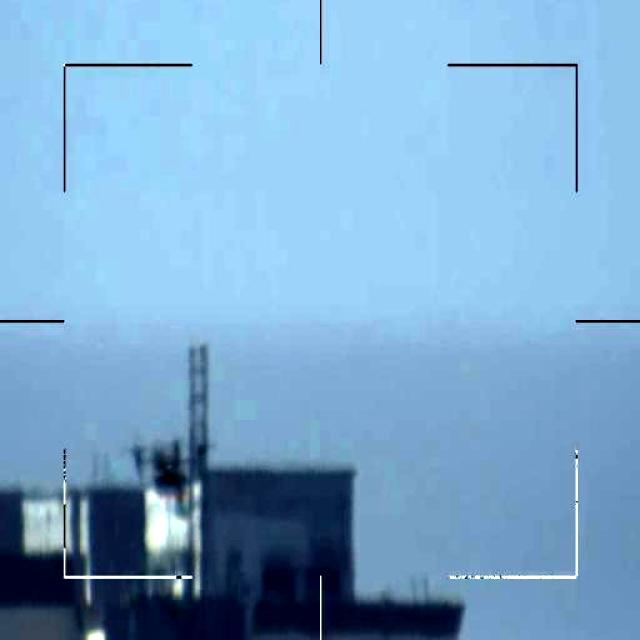bird: (141, 430, 204, 514)
